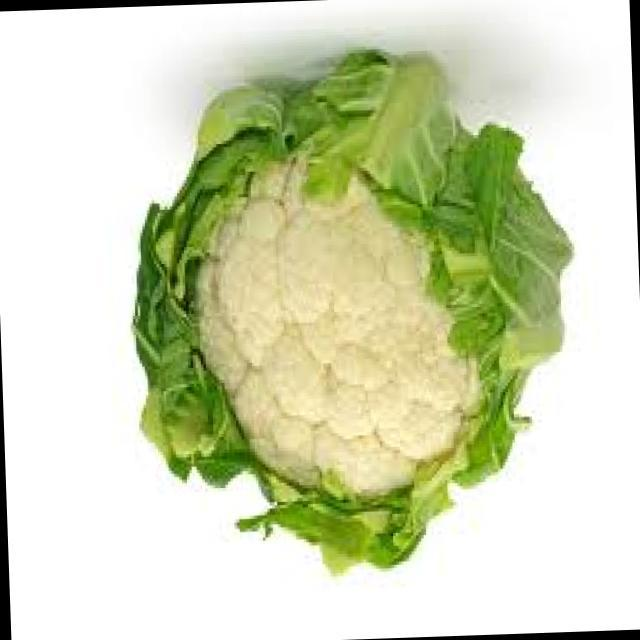Cauliflower: (103, 26, 596, 606)
